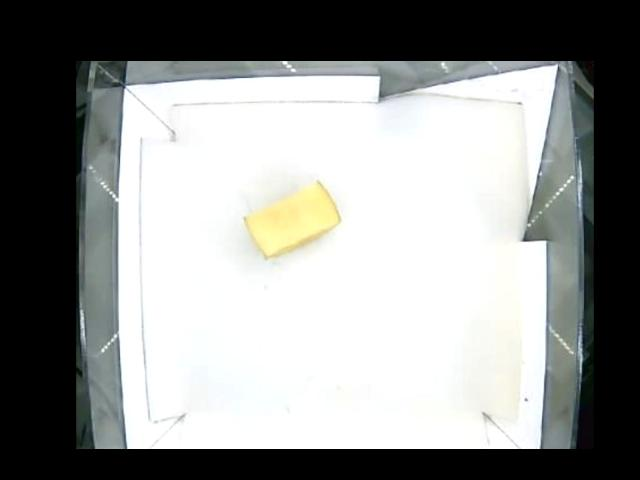Potato: (245, 181, 341, 259)
